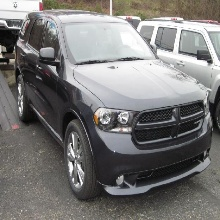no damage: (13, 9, 215, 201), (137, 13, 220, 100)
